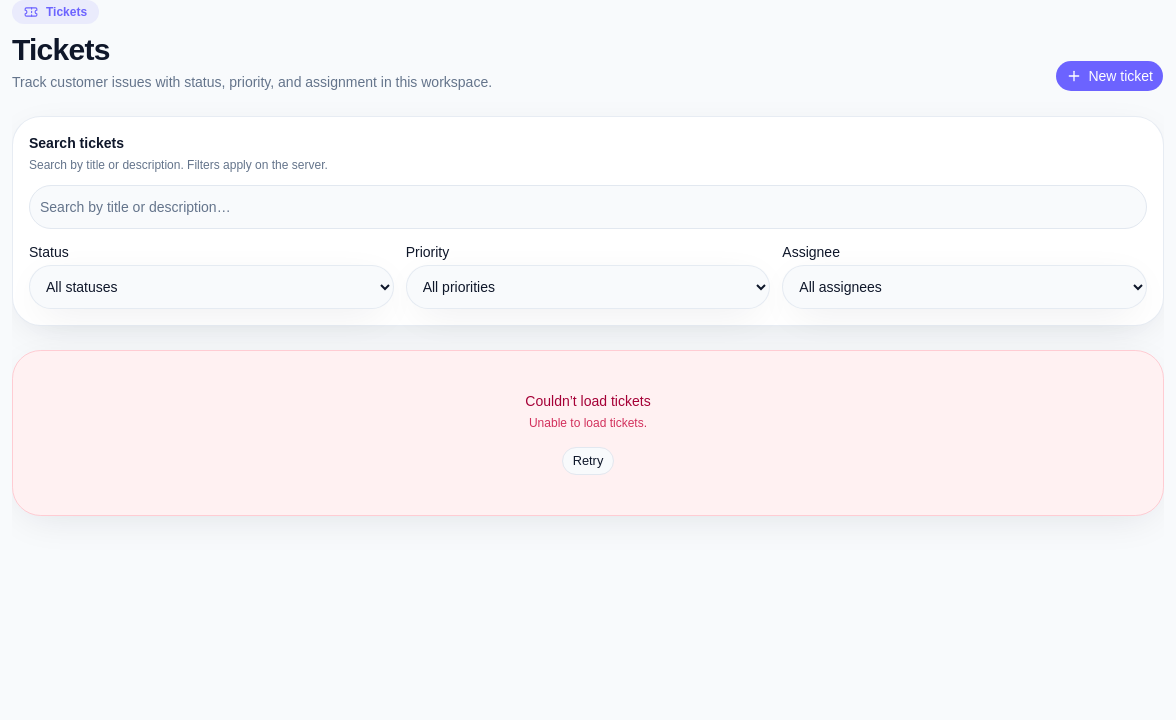
TicketsBoard › shows a list error and retries
This screenshot has width=1176, height=720.
Expected: the text "Couldn’t load tickets" is shown, [525,393,651,409]
Click the button "Retry": (588, 461) [562,447,614,475]
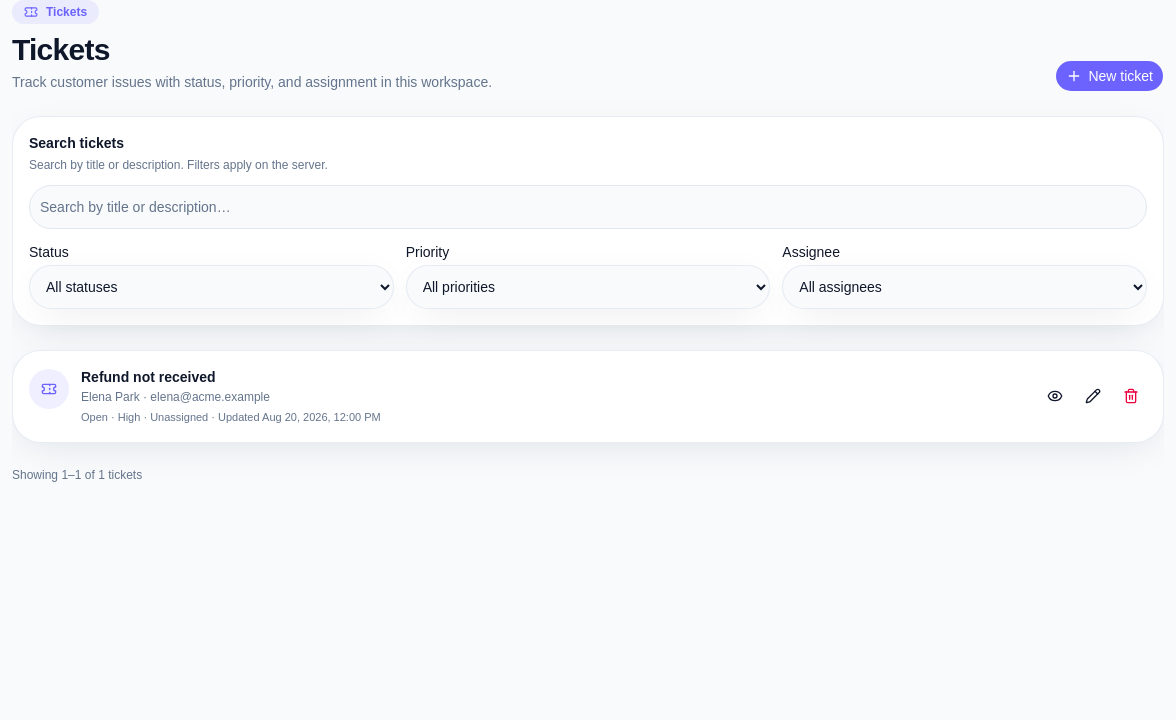
Expected: the text "Refund not received" is shown, [81,369,216,385]
